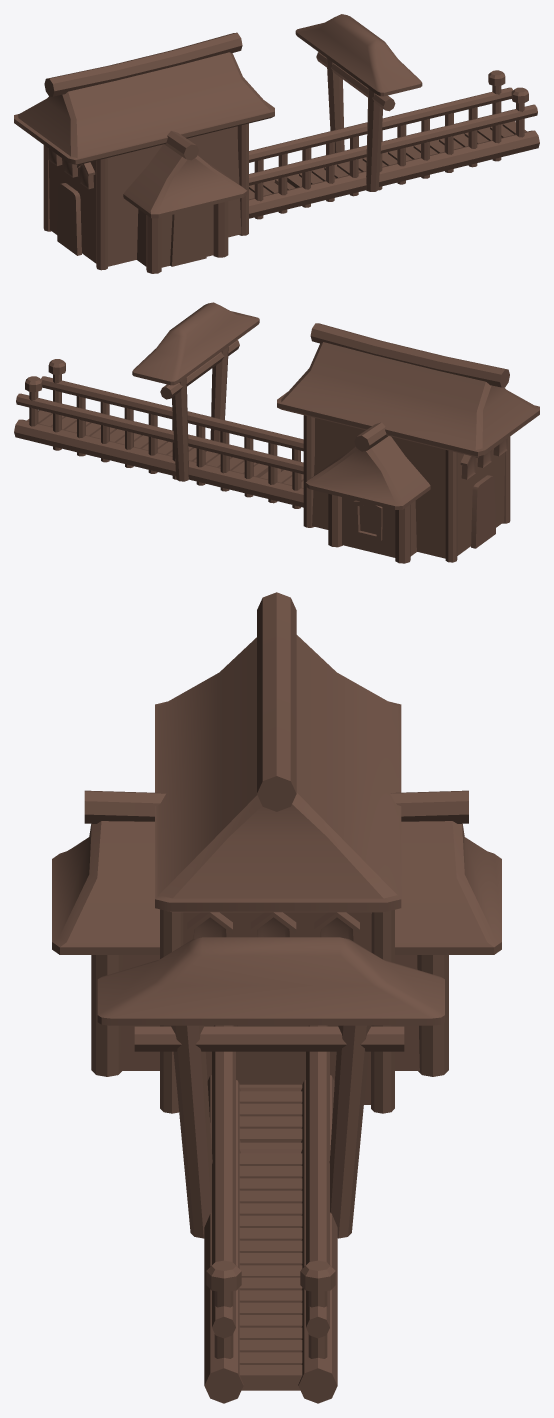
File: dock_marzi.fbx
The picture shows the model from 3 angles, top to bottom: view 1: azimuth 30°, elevation 25°; view 2: azimuth 150°, elevation 25°; view 3: azimuth 270°, elevation 25°; orthographic projection. The views are drawn at different scales.
Visible parts, largest first — view 1: dock_marzi; view 2: dock_marzi; view 3: dock_marzi.
Boxes of the visible parts, x1,y1,x2,y2 form: dock_marzi: [14, 14, 539, 273]; dock_marzi: [14, 302, 539, 563]; dock_marzi: [52, 592, 501, 1403].
Bounding box in the file's own units: 13314 × 4691 × 5399.
